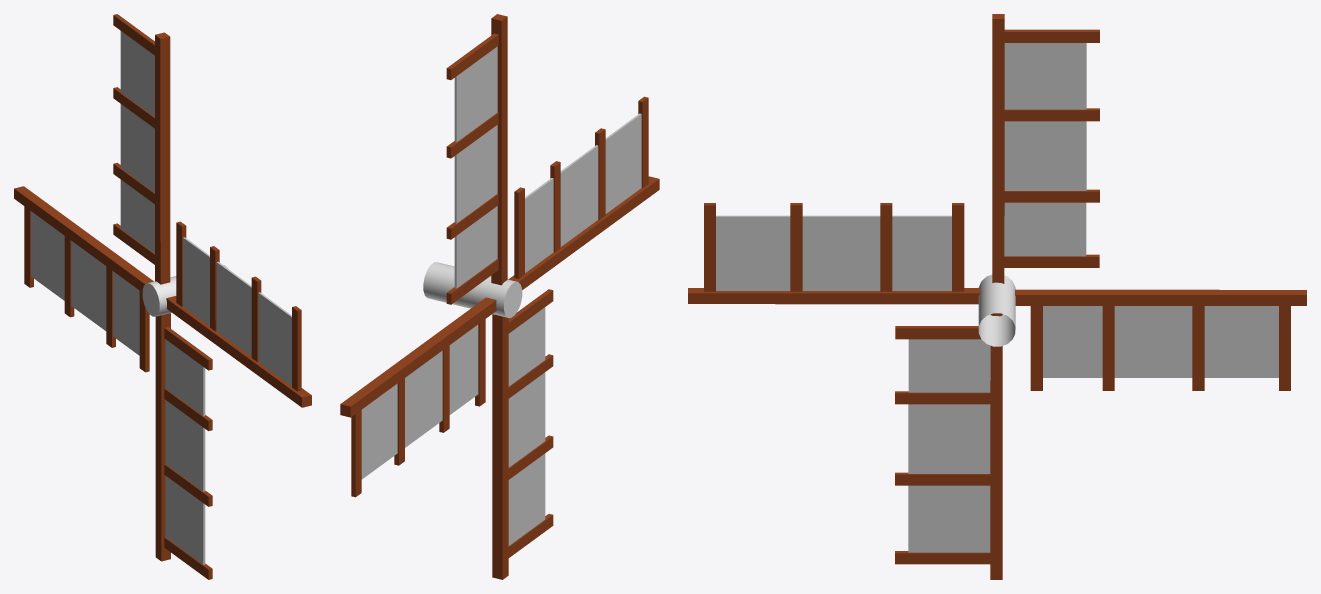
The model's file is Mill_Wings.fbx.
The picture shows the model from 3 angles, left to right: view 1: azimuth 30°, elevation 25°; view 2: azimuth 150°, elevation 25°; view 3: azimuth 270°, elevation 25°; orthographic projection. The views are drawn at different scales.
Visible parts, largest first — view 1: Cube.185, Cube.187, Cube.186, Cube.188, Cylinder.013; view 2: Cube.185, Cube.187, Cube.188, Cube.186, Cylinder.013; view 3: Cube.186, Cube.188, Cube.185, Cube.187, Cylinder.013.
Boxes of the visible parts, box(x1,y1,x2,y2) form: Cube.185: box(113, 14, 170, 284); Cube.187: box(155, 313, 212, 579); Cube.186: box(166, 221, 311, 407); Cube.188: box(14, 186, 153, 372); Cylinder.013: box(142, 265, 229, 316); Cube.185: box(446, 14, 507, 304); Cube.187: box(492, 289, 553, 579); Cube.188: box(340, 297, 496, 497); Cube.186: box(508, 96, 659, 289); Cylinder.013: box(423, 262, 522, 317); Cube.186: box(688, 203, 979, 304); Cube.188: box(1015, 289, 1306, 390); Cube.185: box(992, 14, 1099, 283); Cube.187: box(895, 313, 1002, 579); Cylinder.013: box(978, 274, 1015, 346).
Size of the model in its own units: 420 by 2788 by 2788.
